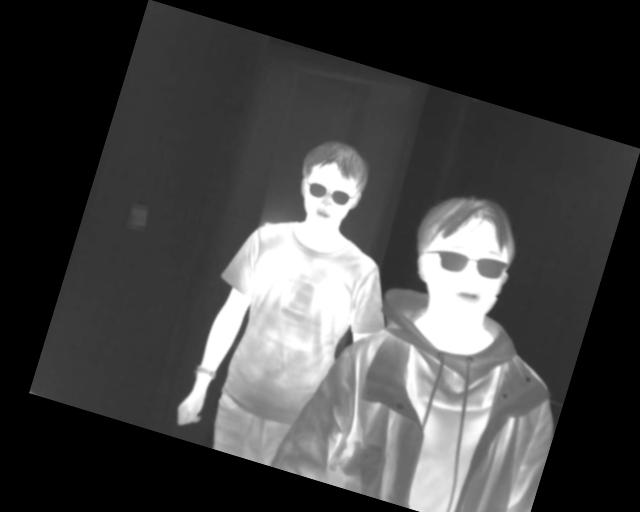face: (397, 181, 530, 330), (285, 132, 376, 238)
